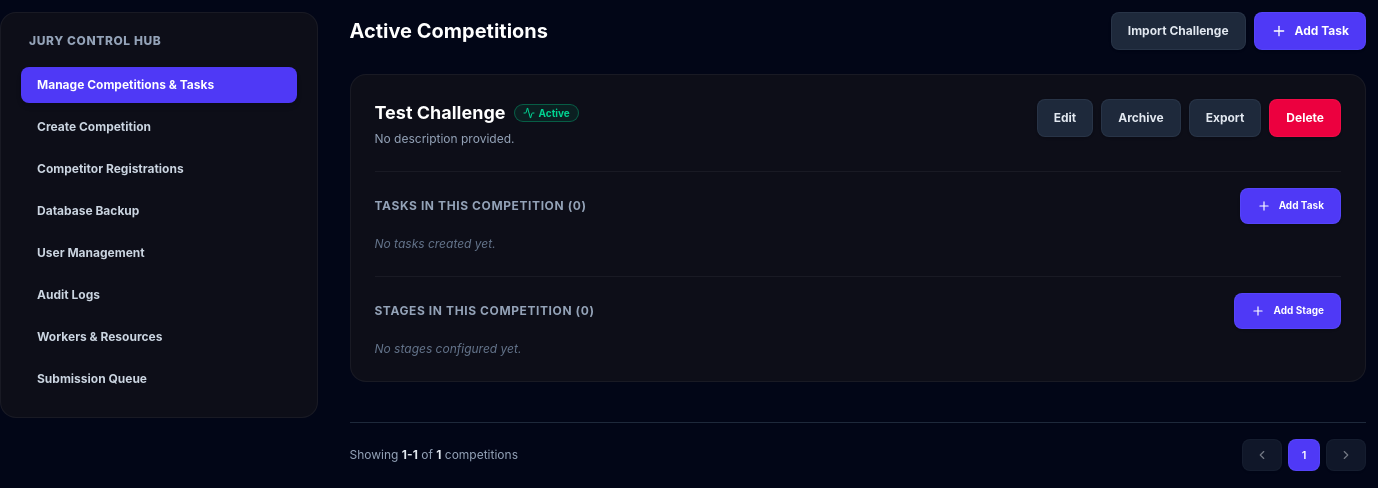
AdminPanel – tab navigation & sub-module rendering › switches to Database Backup tab and renders BackupManager
Click the button "Database Backup" at (88, 210), box [21,193,296,229]
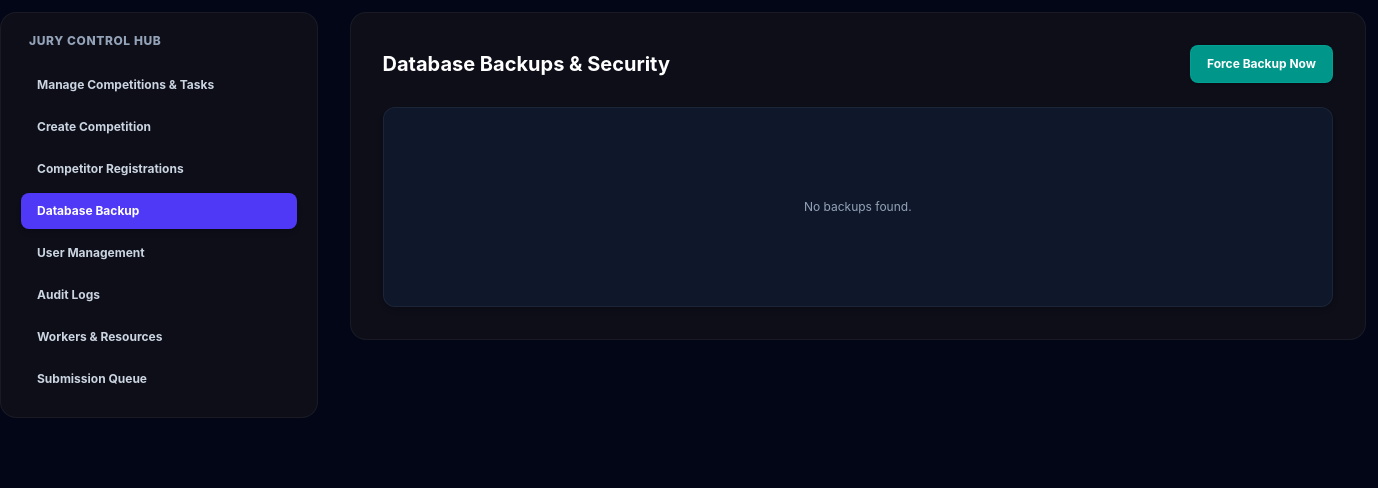
Now the heading "Database Backups & Security" is shown, box [382,50,670,78]
